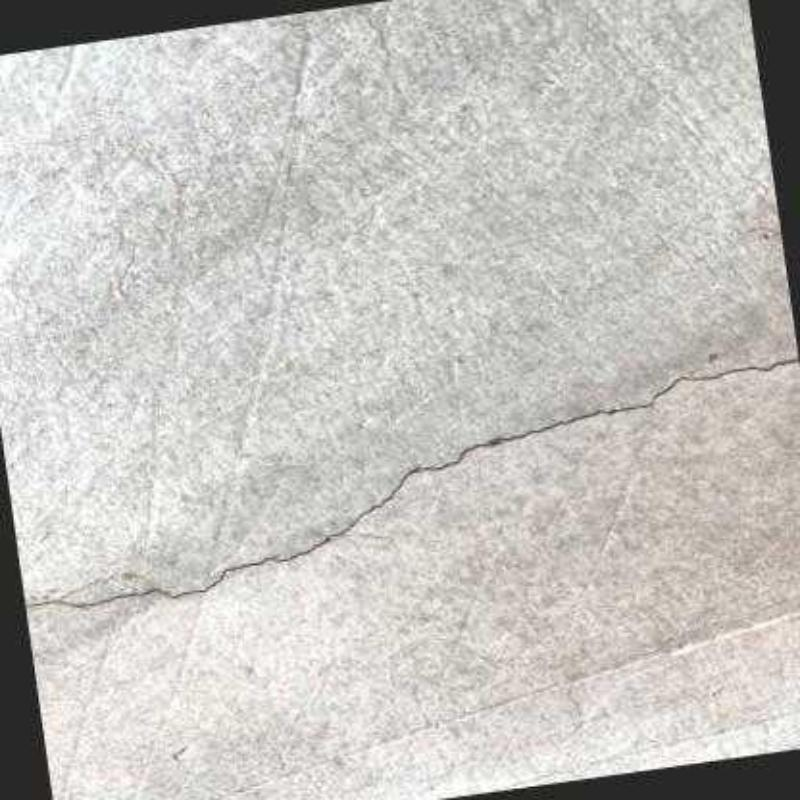pothole: (26, 358, 800, 606)
